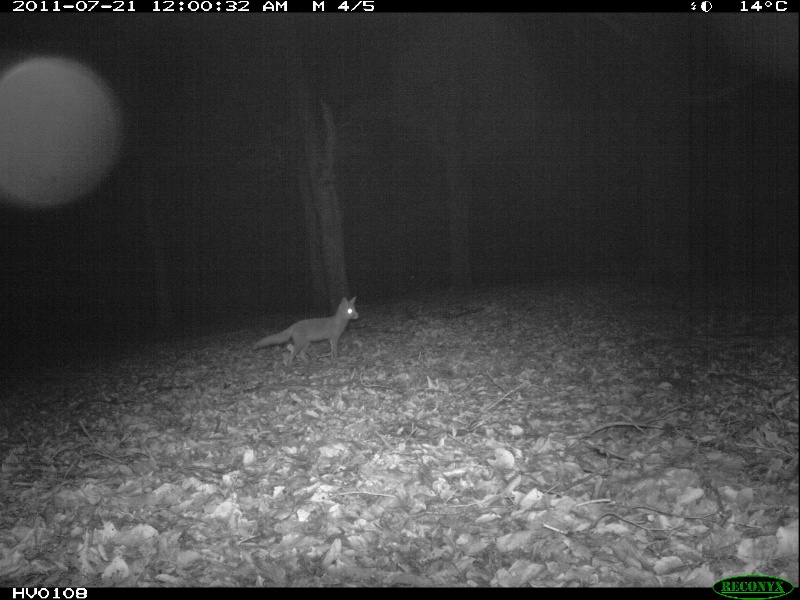fox: (255, 296, 363, 369)
